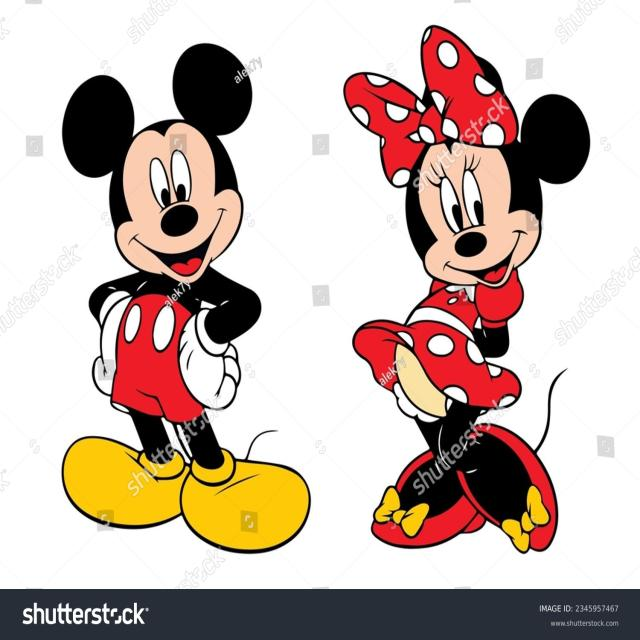mickey: (61, 53, 317, 543)
